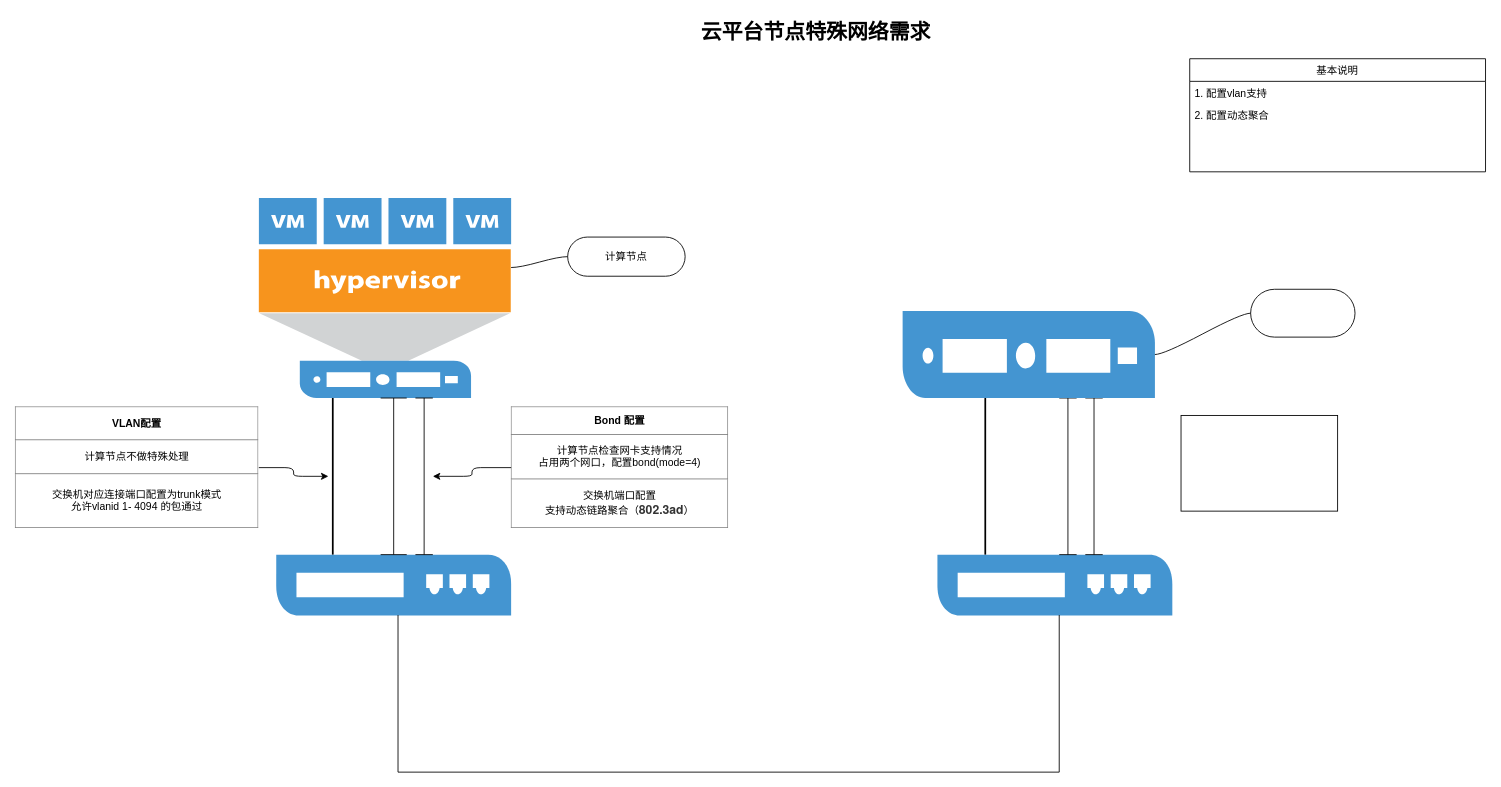
Some shapes in this 1501 by 787 pixel diagram are drawn without their labels. The shapes that lost their labels are listed below. From the top down, each one's centre as x and y in pixels, then its label:
At (x=1302, y=312): "裸金属主机".
At (x=1259, y=463): "和计算节点相同配置".
